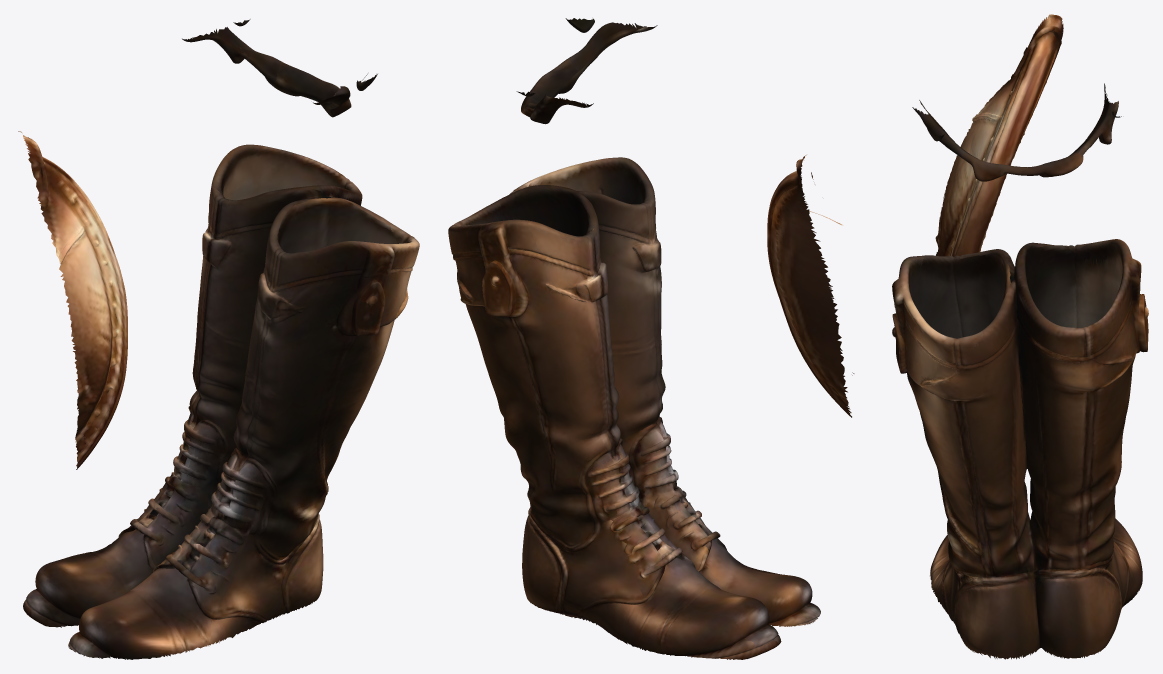
File: stirrups.glb
3 renders of one model, left to right at view 1: azimuth 30°, elevation 25°; view 2: azimuth 150°, elevation 25°; view 3: azimuth 270°, elevation 25°, orthographic. The views are drawn at different scales.
Visible parts, largest first — view 1: stirrups; view 2: stirrups; view 3: stirrups.
Boxes of the visible parts, x1,y1,x2,y2 form: stirrups: [18, 19, 419, 659]; stirrups: [448, 18, 854, 659]; stirrups: [892, 14, 1148, 659].
Size of the model in its own units: 0.2775 by 0.4036 by 0.1733.
Materials: 1 (1 with a texture image).
